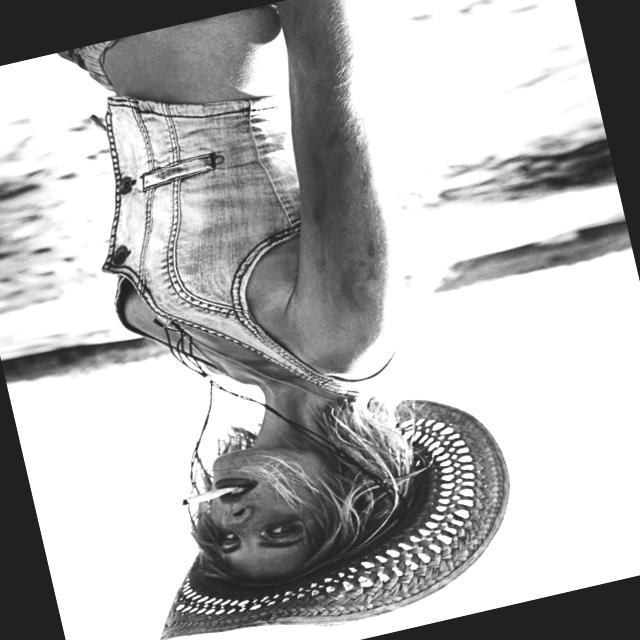smoke: (180, 483, 239, 508)
